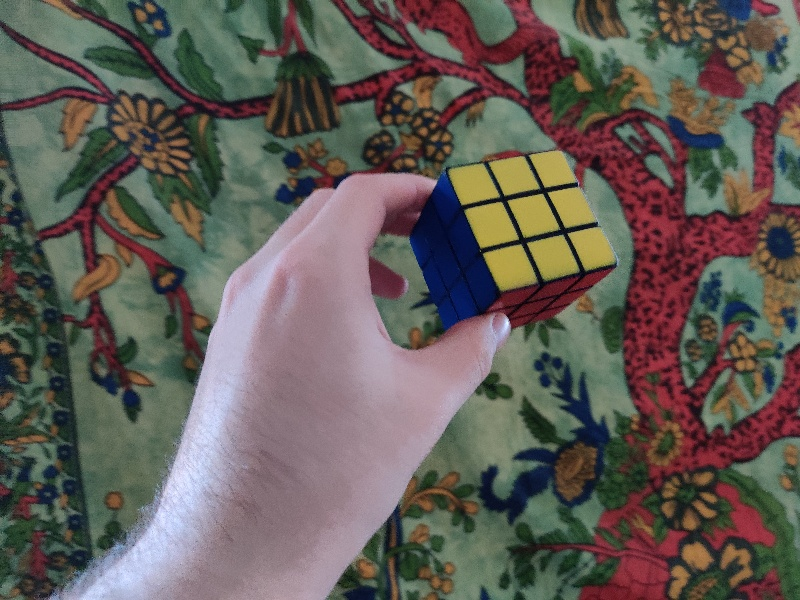rubik: (410, 149, 618, 333)
